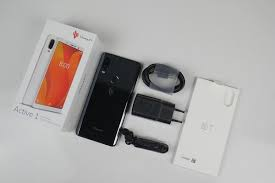vsmart: (71, 49, 144, 151)
